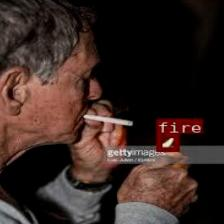fire: (156, 133, 178, 151)
